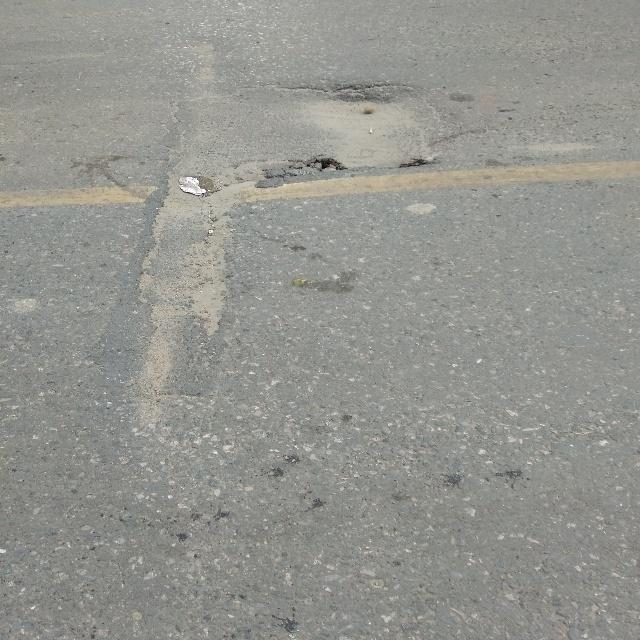Pothole: (320, 80, 392, 116), (268, 146, 344, 179)
Surface Erosion: (130, 16, 289, 640)
